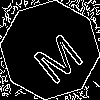M: (25, 25, 86, 86)
